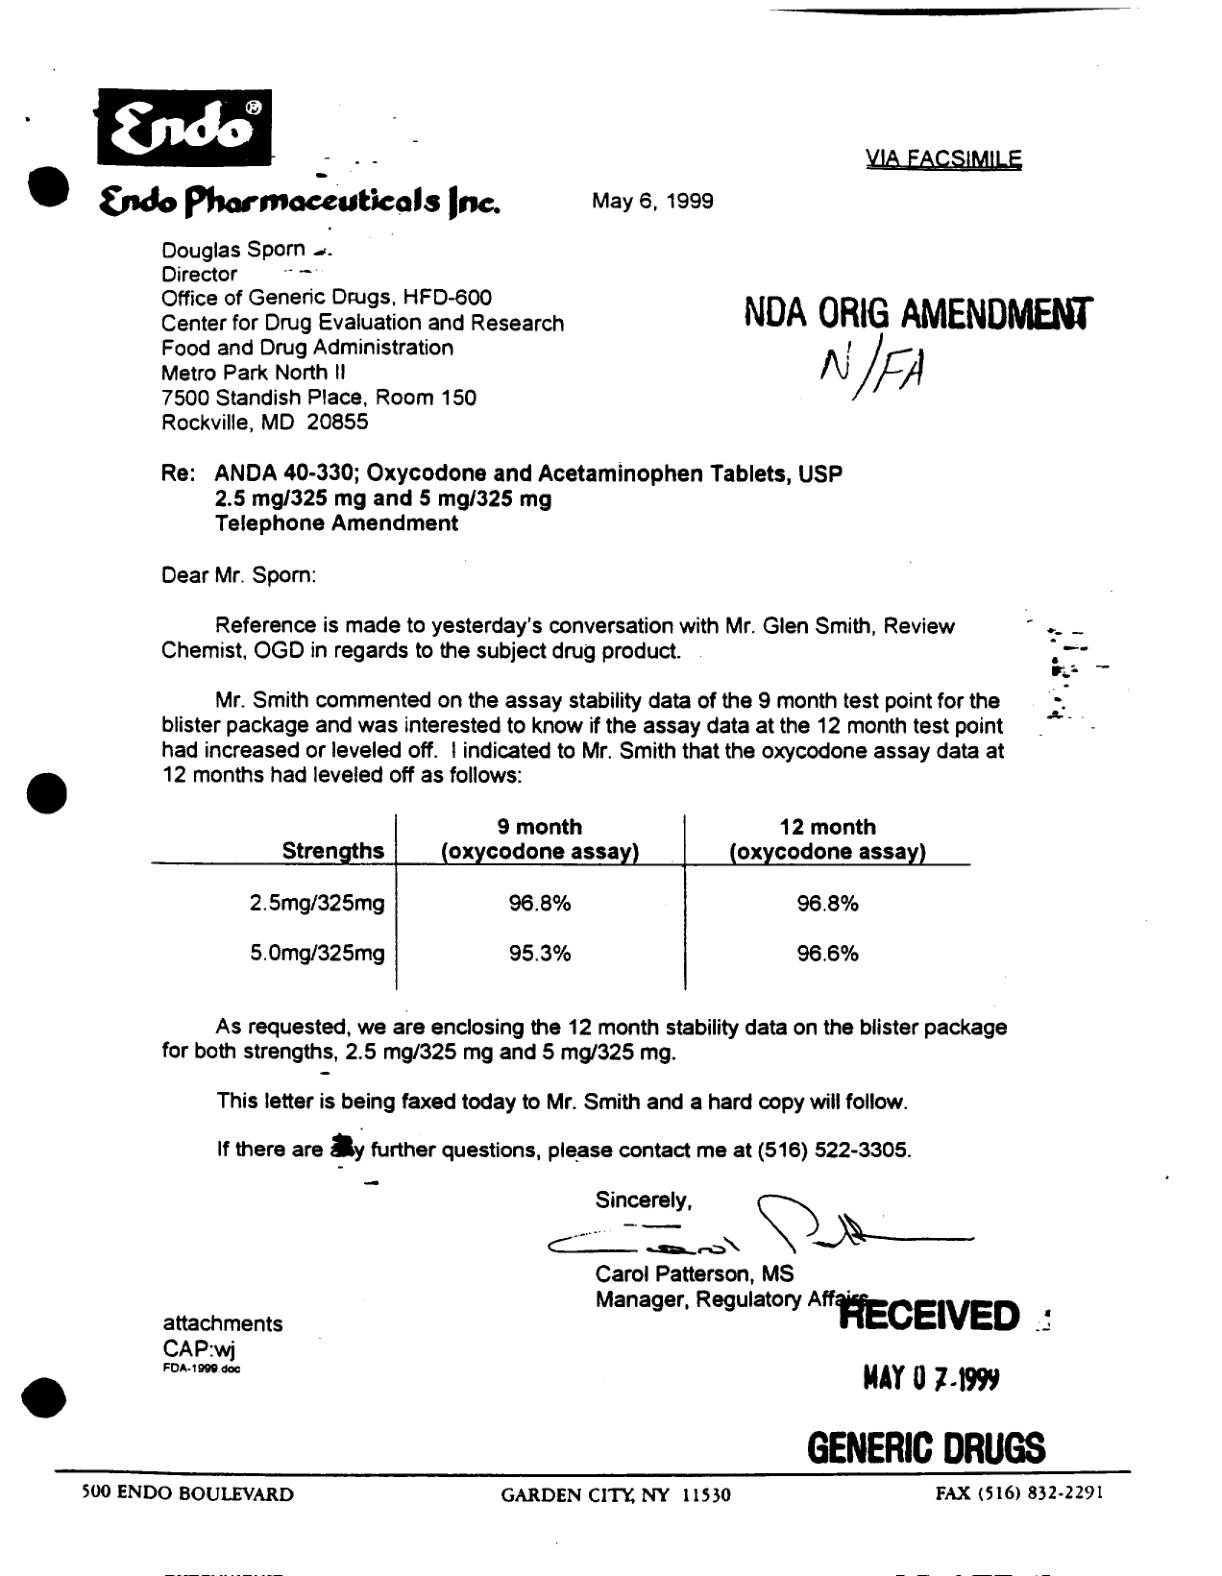partial_lined: (150, 812, 972, 991)
